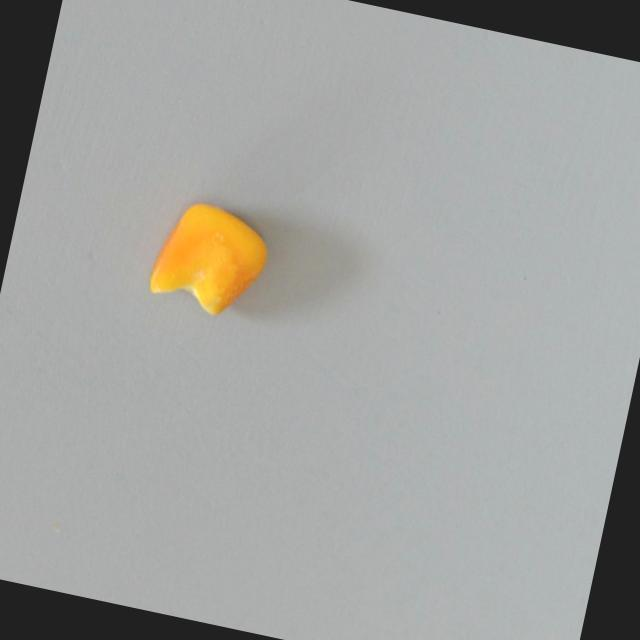no_canjicado: (144, 192, 277, 325)
